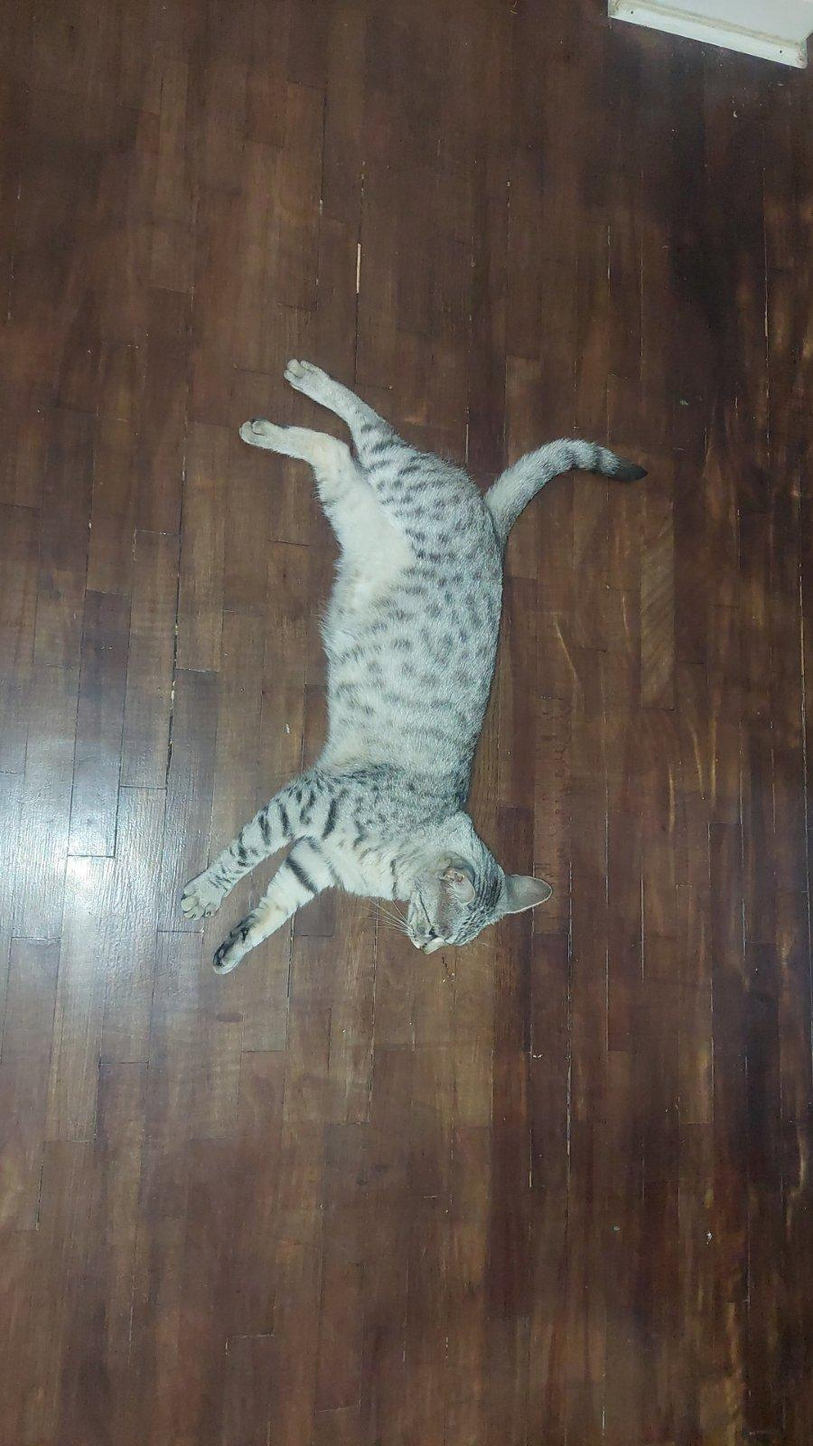macka: (178, 355, 650, 971)
